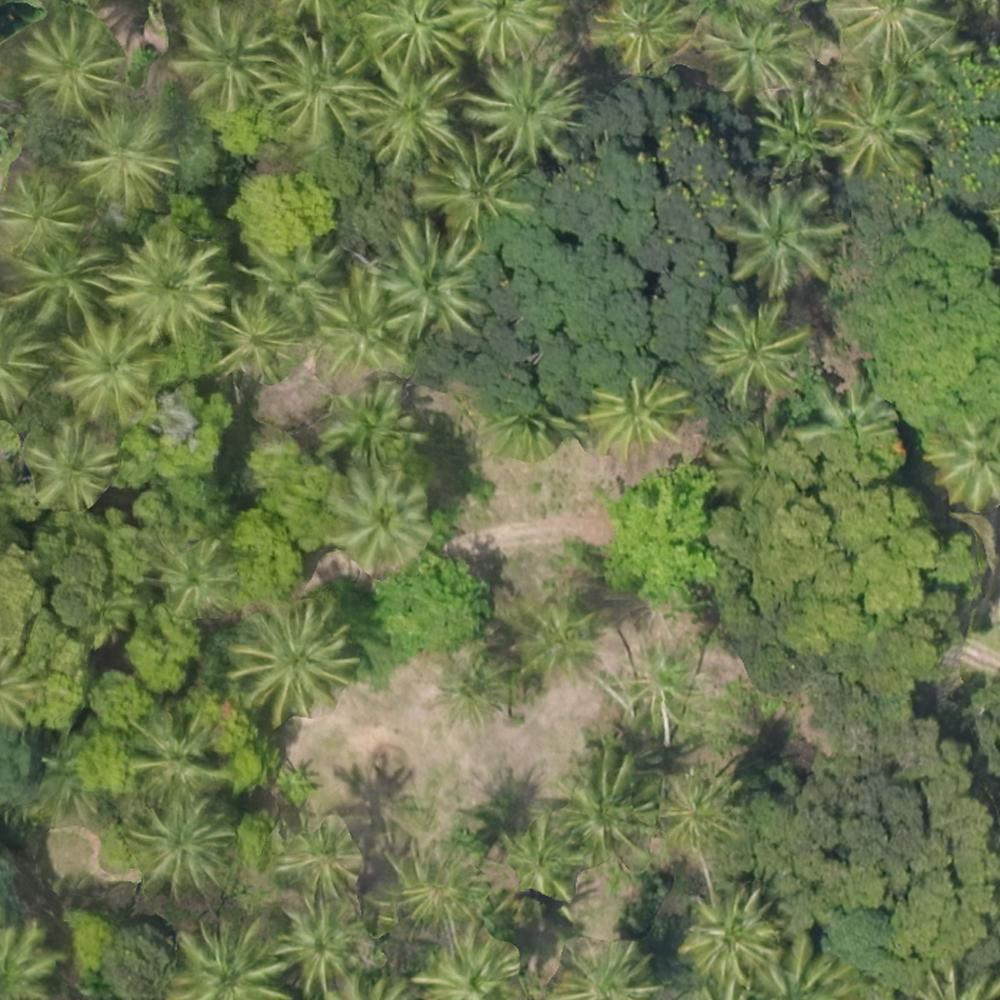Palm: (232, 606, 350, 711), (719, 180, 837, 283), (114, 228, 221, 336), (375, 227, 480, 332), (705, 299, 808, 405), (826, 76, 927, 178), (18, 12, 126, 106), (263, 32, 364, 132), (170, 914, 290, 998), (354, 58, 454, 157), (70, 108, 172, 205), (471, 60, 572, 157), (172, 5, 268, 106), (55, 319, 149, 421), (129, 798, 228, 894), (420, 144, 524, 234), (698, 13, 805, 94), (327, 475, 424, 563), (311, 277, 400, 371), (682, 892, 778, 978), (22, 419, 112, 510), (11, 244, 107, 328), (122, 709, 222, 789), (586, 1, 692, 76), (496, 816, 585, 905), (317, 382, 418, 459), (565, 762, 651, 850), (1, 168, 83, 258), (361, 1, 469, 65), (588, 381, 685, 451), (207, 293, 288, 373), (152, 538, 236, 615), (652, 774, 734, 848), (282, 822, 361, 898), (279, 908, 355, 981), (432, 652, 509, 722)
